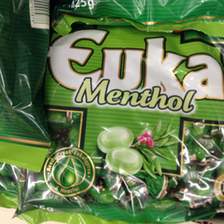candy: (44, 15, 224, 215)
